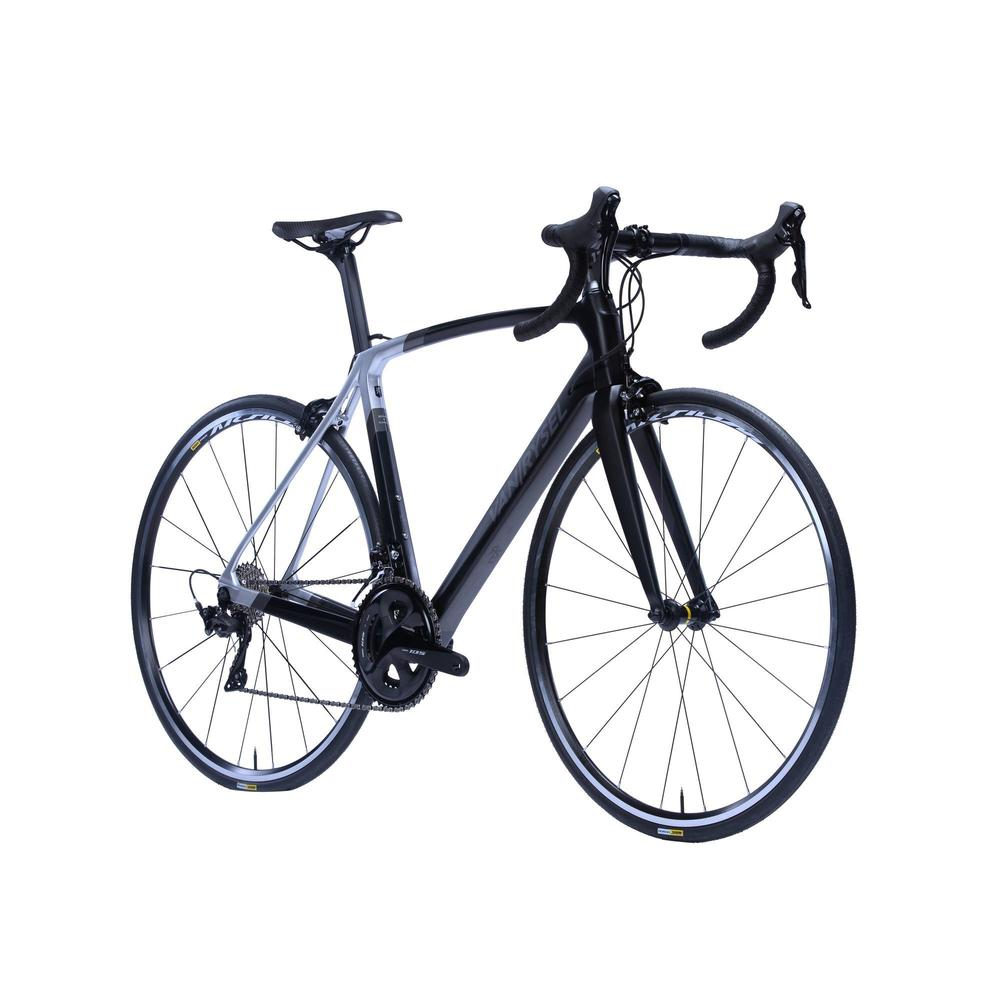RoadBike: (139, 187, 847, 842)
